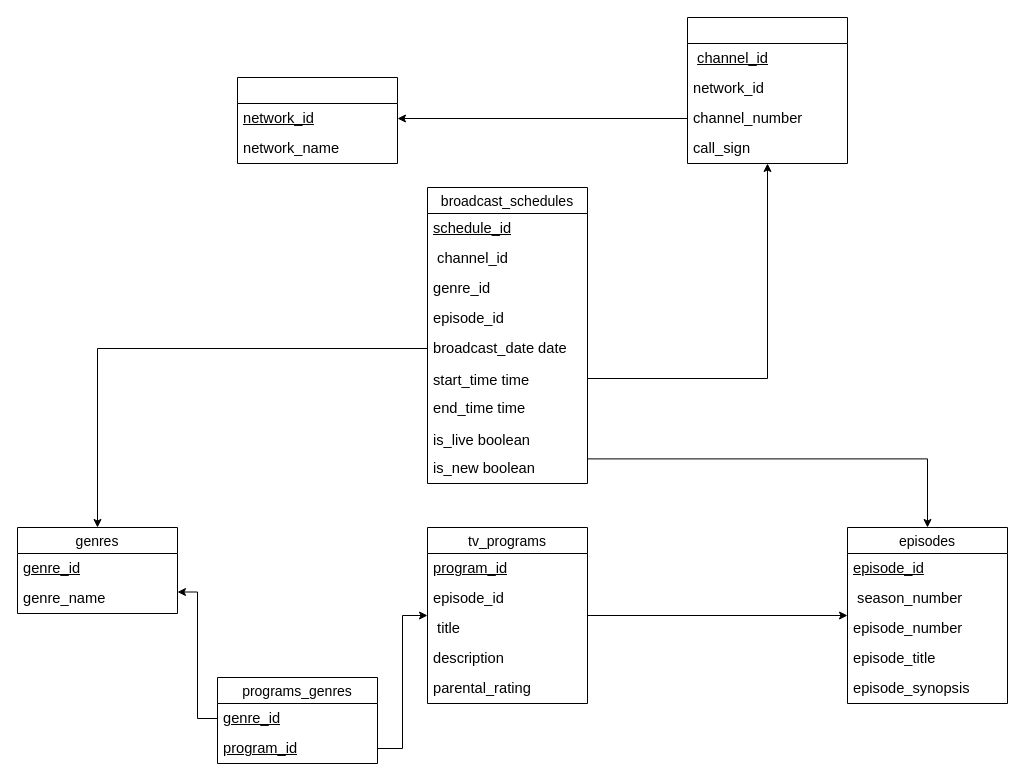
Some shapes in this 1025 by 784 pixel diagram are drawn without their labels. The shapes that lost their labels are listed below. From the top down, each one's box as (x1, y1, x2, y2) in pixels, then its label:
(686, 16, 848, 164): tv_channels
(236, 76, 398, 164): tv_networks
